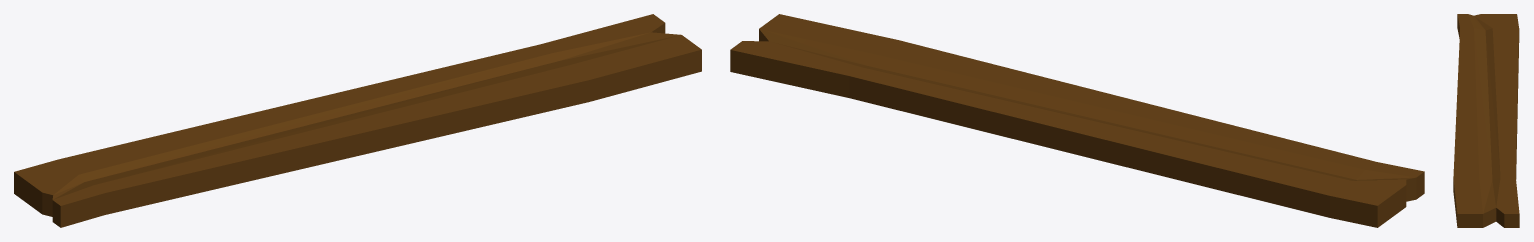
Rendered from plank.fbx.
3 renders of one model, left to right at view 1: azimuth 30°, elevation 25°; view 2: azimuth 150°, elevation 25°; view 3: azimuth 270°, elevation 25°, orthographic. The views are drawn at different scales.
Parts seen in each view (by area): view 1: Bench.001; view 2: Bench.001; view 3: Bench.001.
Boxes of the visible parts, x1,y1,x2,y2 form: Bench.001: [14, 14, 701, 227]; Bench.001: [730, 14, 1424, 227]; Bench.001: [1453, 14, 1519, 227].
Size of the model in its own units: 214 by 7 by 29.9.
